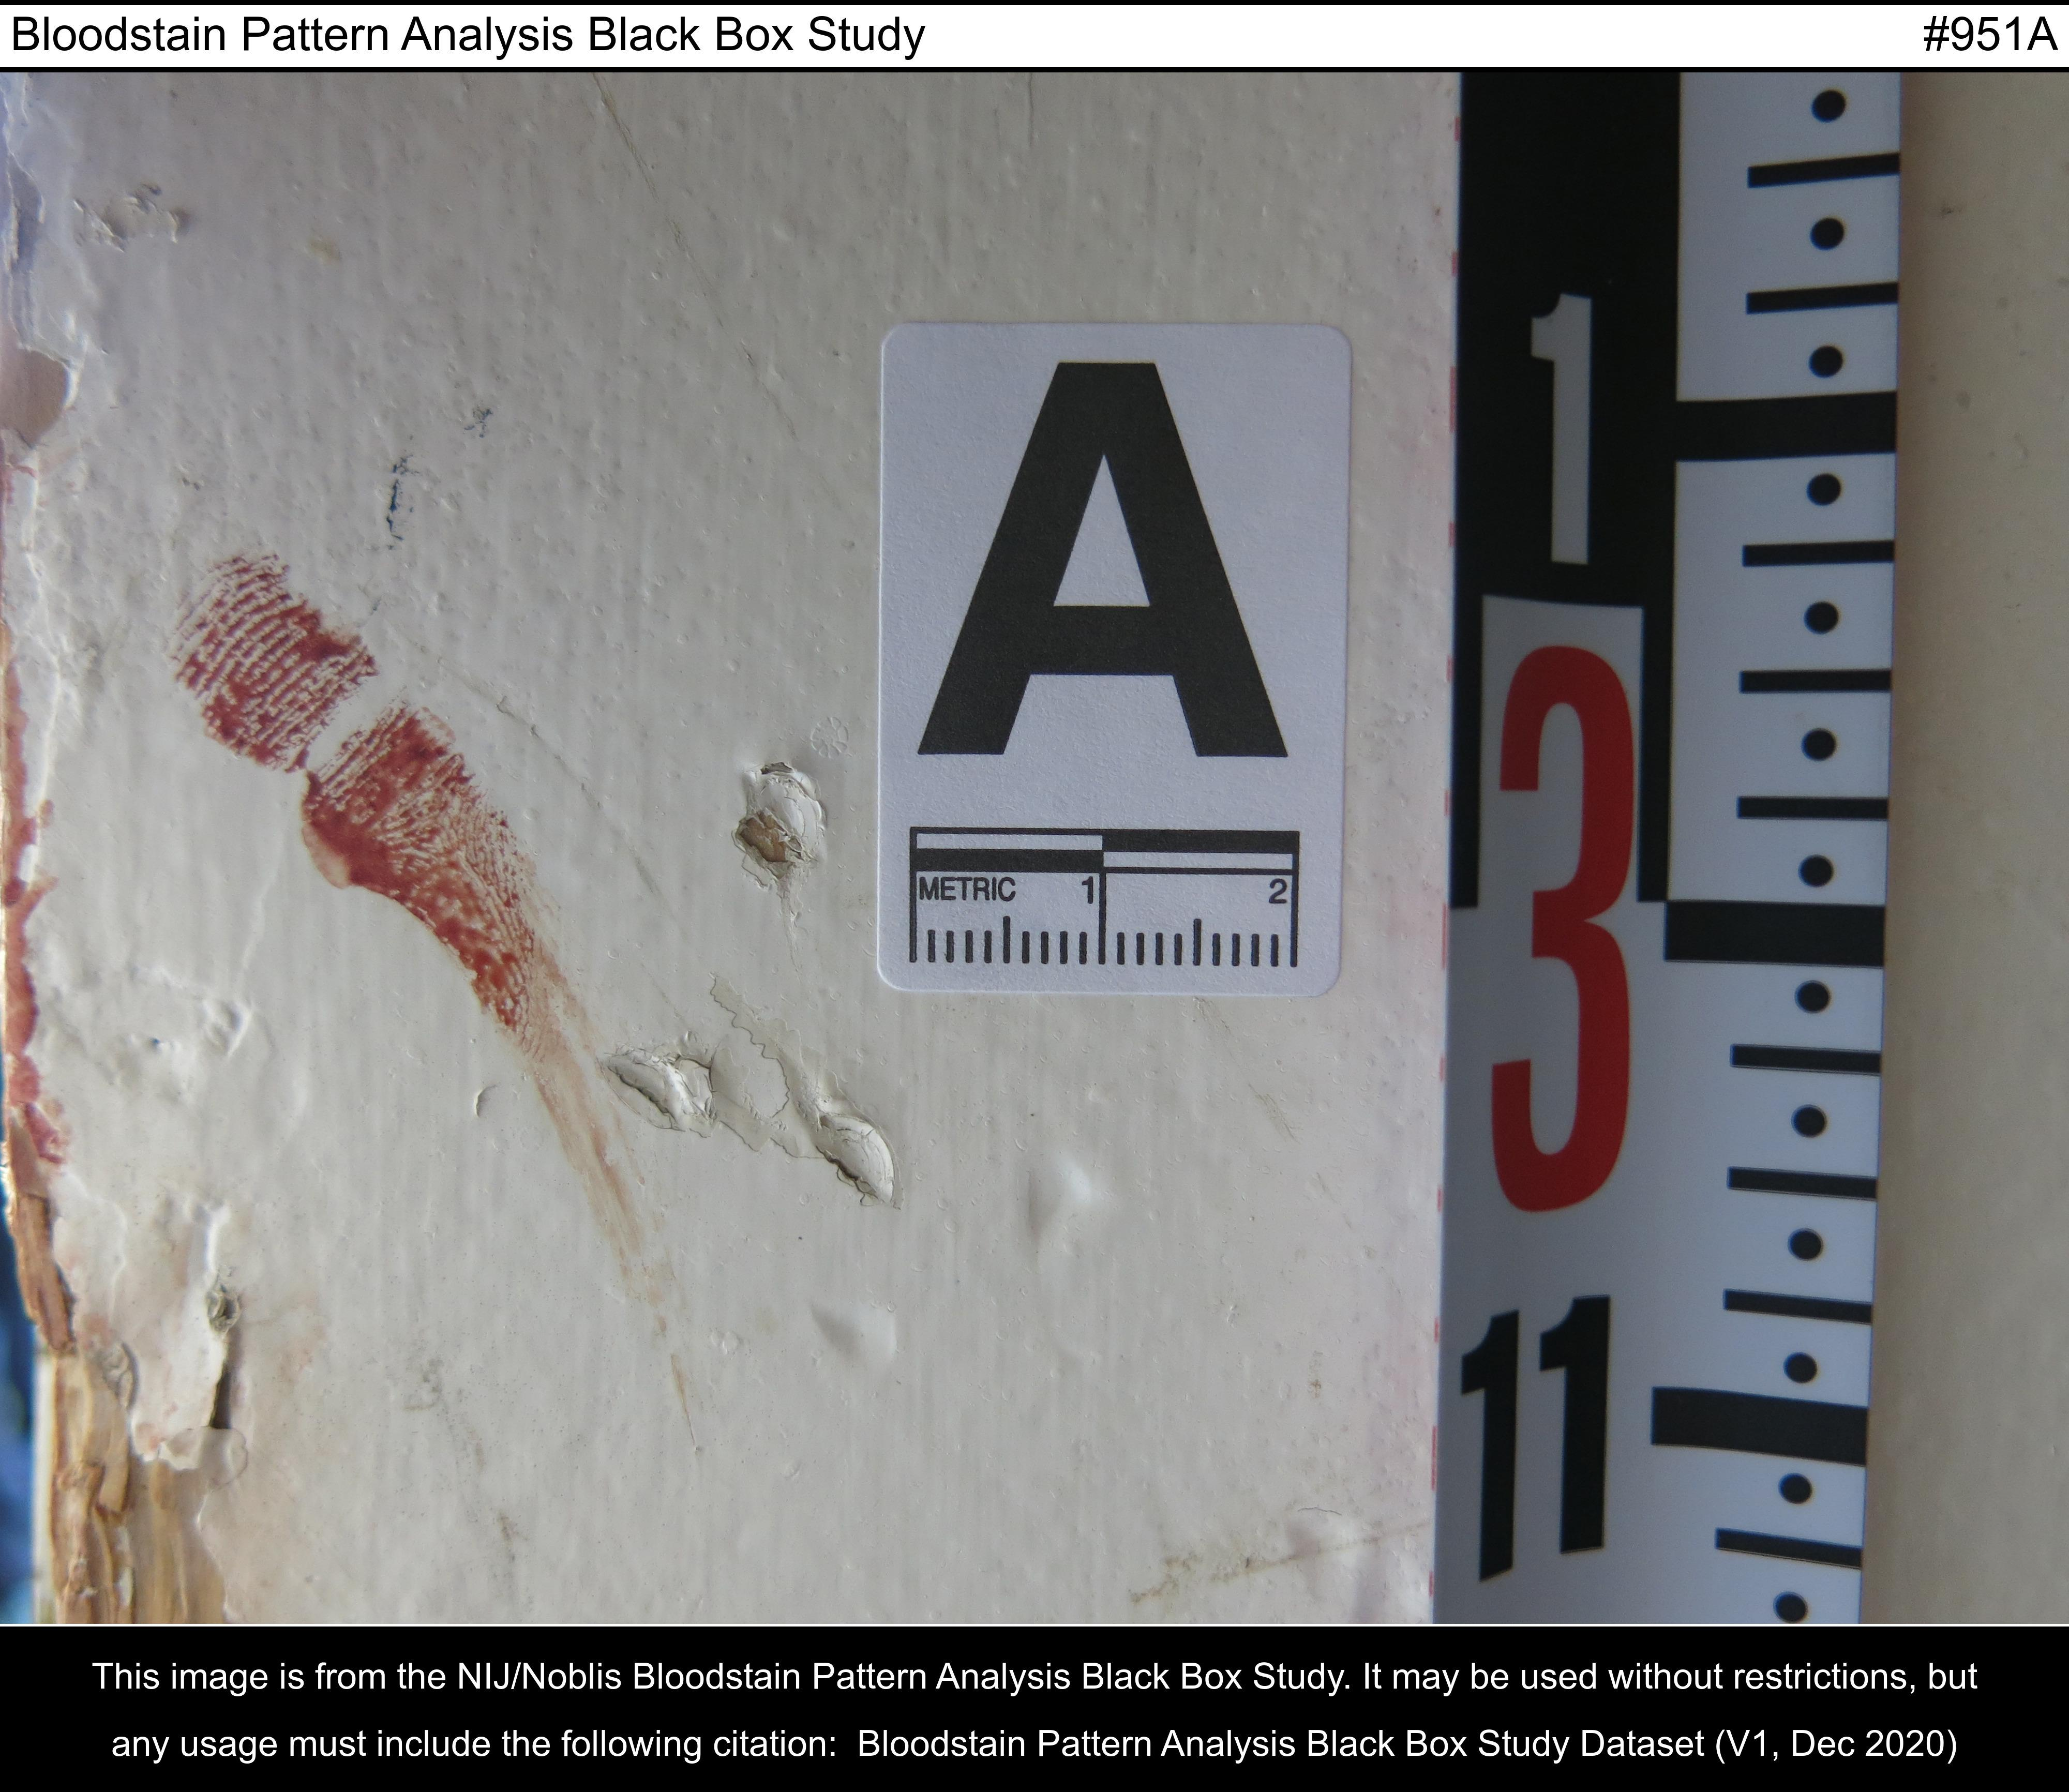Transfer: (7, 327, 765, 1519)
